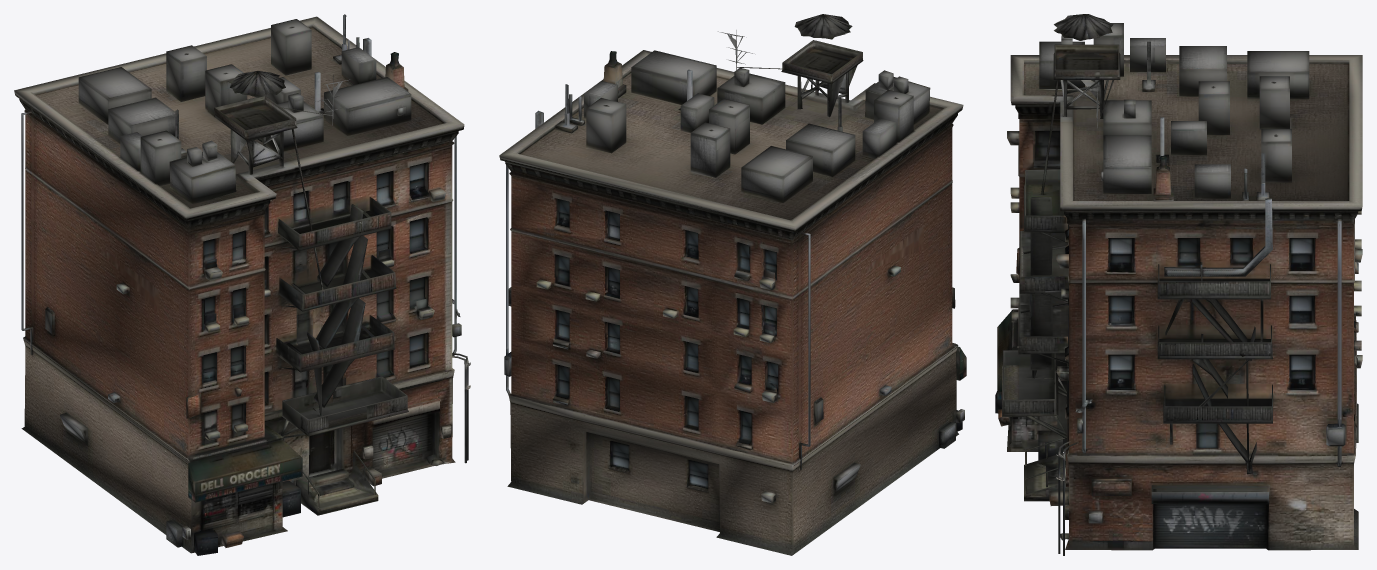
File: selected.glb
3 views of the same model, side by side, from view 1: azimuth 30°, elevation 25°; view 2: azimuth 150°, elevation 25°; view 3: azimuth 270°, elevation 25° (orthographic). The views are drawn at different scales.
Parts seen in each view (by area): view 1: tripo_node_f311b6bb-b25d-4282-9825-69a12ea800f5; view 2: tripo_node_f311b6bb-b25d-4282-9825-69a12ea800f5; view 3: tripo_node_f311b6bb-b25d-4282-9825-69a12ea800f5.
Boxes of the visible parts, x1,y1,x2,y2 form: tripo_node_f311b6bb-b25d-4282-9825-69a12ea800f5: (14, 14, 470, 555); tripo_node_f311b6bb-b25d-4282-9825-69a12ea800f5: (499, 14, 966, 555); tripo_node_f311b6bb-b25d-4282-9825-69a12ea800f5: (995, 14, 1362, 555).
Bounding box in the file's own units: 0.8301 × 0.998 × 0.752.
1 material, 1 textured.
